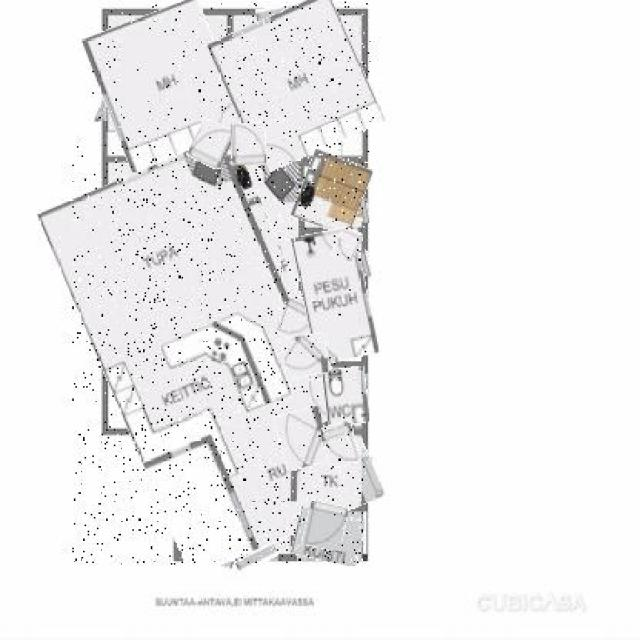door: (278, 409, 331, 468), (283, 334, 329, 377), (191, 120, 232, 168), (305, 502, 346, 549), (322, 422, 358, 466), (232, 123, 266, 165), (334, 228, 361, 262)
window: (189, 548, 234, 568), (236, 548, 278, 569), (257, 5, 300, 22), (99, 71, 112, 123), (100, 248, 112, 298), (100, 192, 111, 245), (358, 249, 371, 277), (174, 488, 180, 542), (360, 456, 369, 492), (360, 297, 369, 321), (360, 200, 369, 223), (360, 374, 368, 398), (135, 429, 157, 437)
zone: (72, 146, 351, 565), (220, 0, 374, 163), (92, 4, 237, 164), (297, 229, 372, 363), (289, 422, 362, 502), (297, 154, 368, 234), (294, 509, 363, 563), (323, 368, 368, 426)
